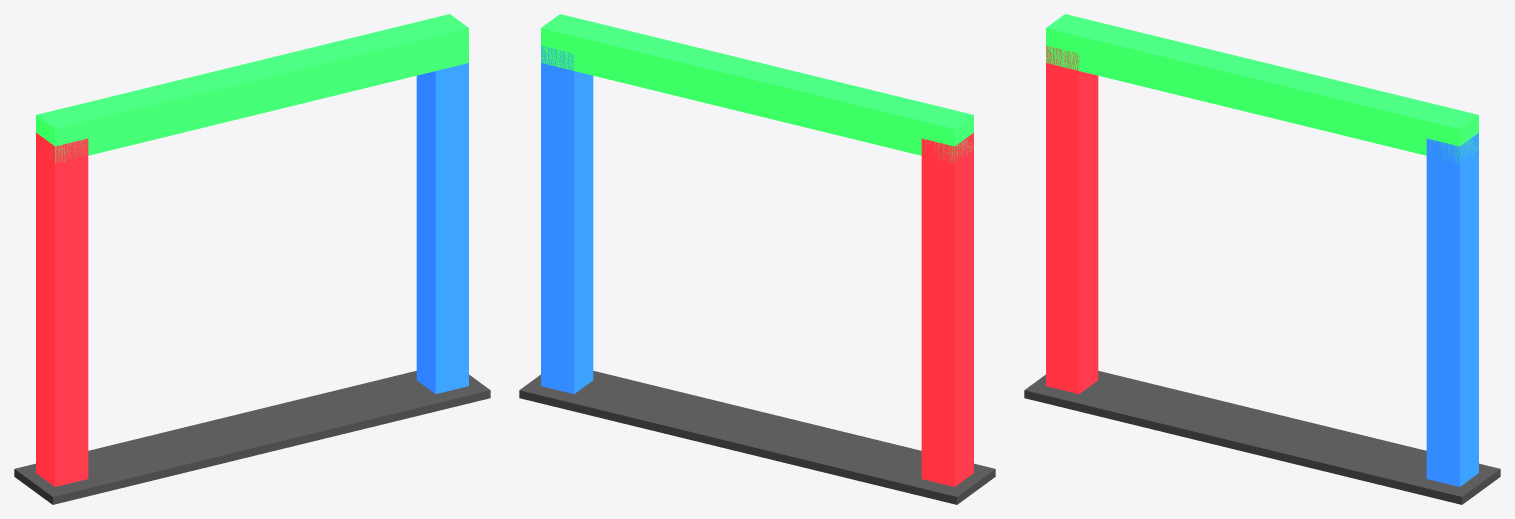
File: ColourGate.glb
The picture shows the model from 3 angles, left to right: view 1: azimuth 30°, elevation 25°; view 2: azimuth 150°, elevation 25°; view 3: azimuth 330°, elevation 25°; orthographic projection.
Visible parts, largest first — view 1: Gate_Top_Green, Gate_Base, Gate_Left_Red, Gate_Right_Blue; view 2: Gate_Top_Green, Gate_Base, Gate_Left_Red, Gate_Right_Blue; view 3: Gate_Top_Green, Gate_Base, Gate_Right_Blue, Gate_Left_Red.
Part boxes in pixels (x1,y1,x2,y2): Gate_Top_Green: (36,14,468,163); Gate_Base: (14,371,490,504); Gate_Left_Red: (36,133,88,486); Gate_Right_Blue: (416,63,468,393); Gate_Top_Green: (541,14,973,162); Gate_Base: (519,371,995,504); Gate_Left_Red: (921,133,973,486); Gate_Right_Blue: (541,46,593,393); Gate_Top_Green: (1046,14,1478,162); Gate_Base: (1024,371,1500,504); Gate_Right_Blue: (1426,133,1478,486); Gate_Left_Red: (1046,46,1098,393).
Size of the model in its own units: 4.6 by 3.67 by 0.7.
